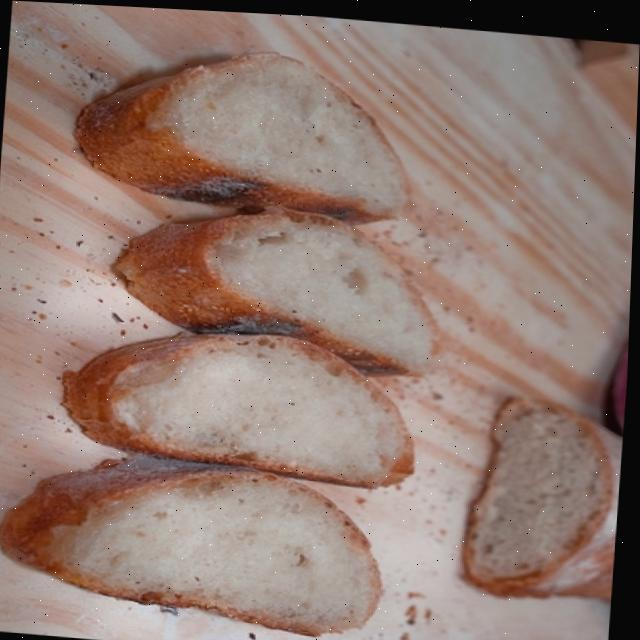面包点心: (0, 15, 640, 640)
